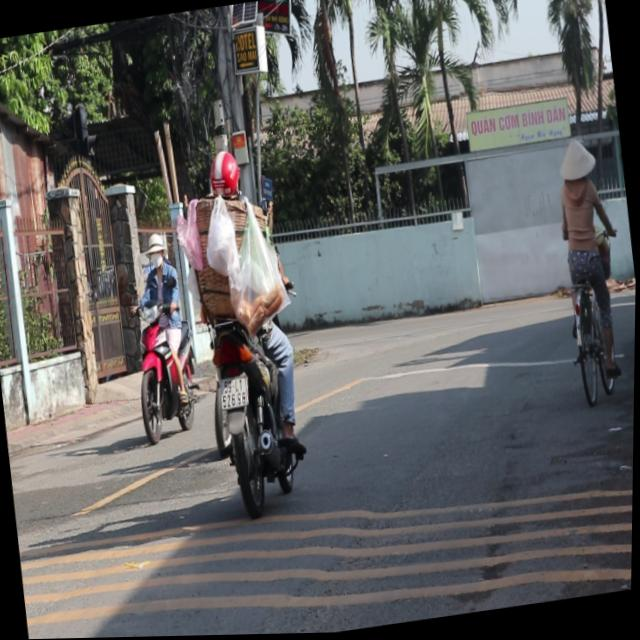helmet: (206, 147, 242, 203)
licenseplate: (173, 136, 319, 518), (116, 224, 206, 446)
motorcyclist: (143, 230, 168, 270)
nohelmet: (218, 374, 249, 408)
